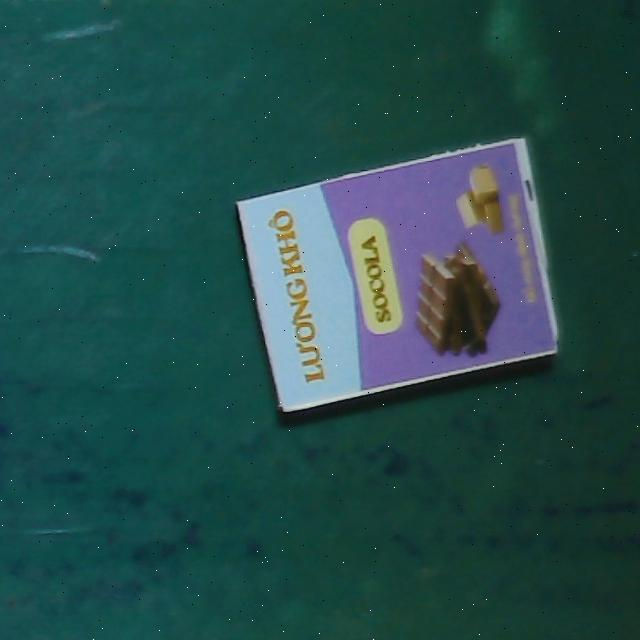socola: (233, 135, 569, 412)
